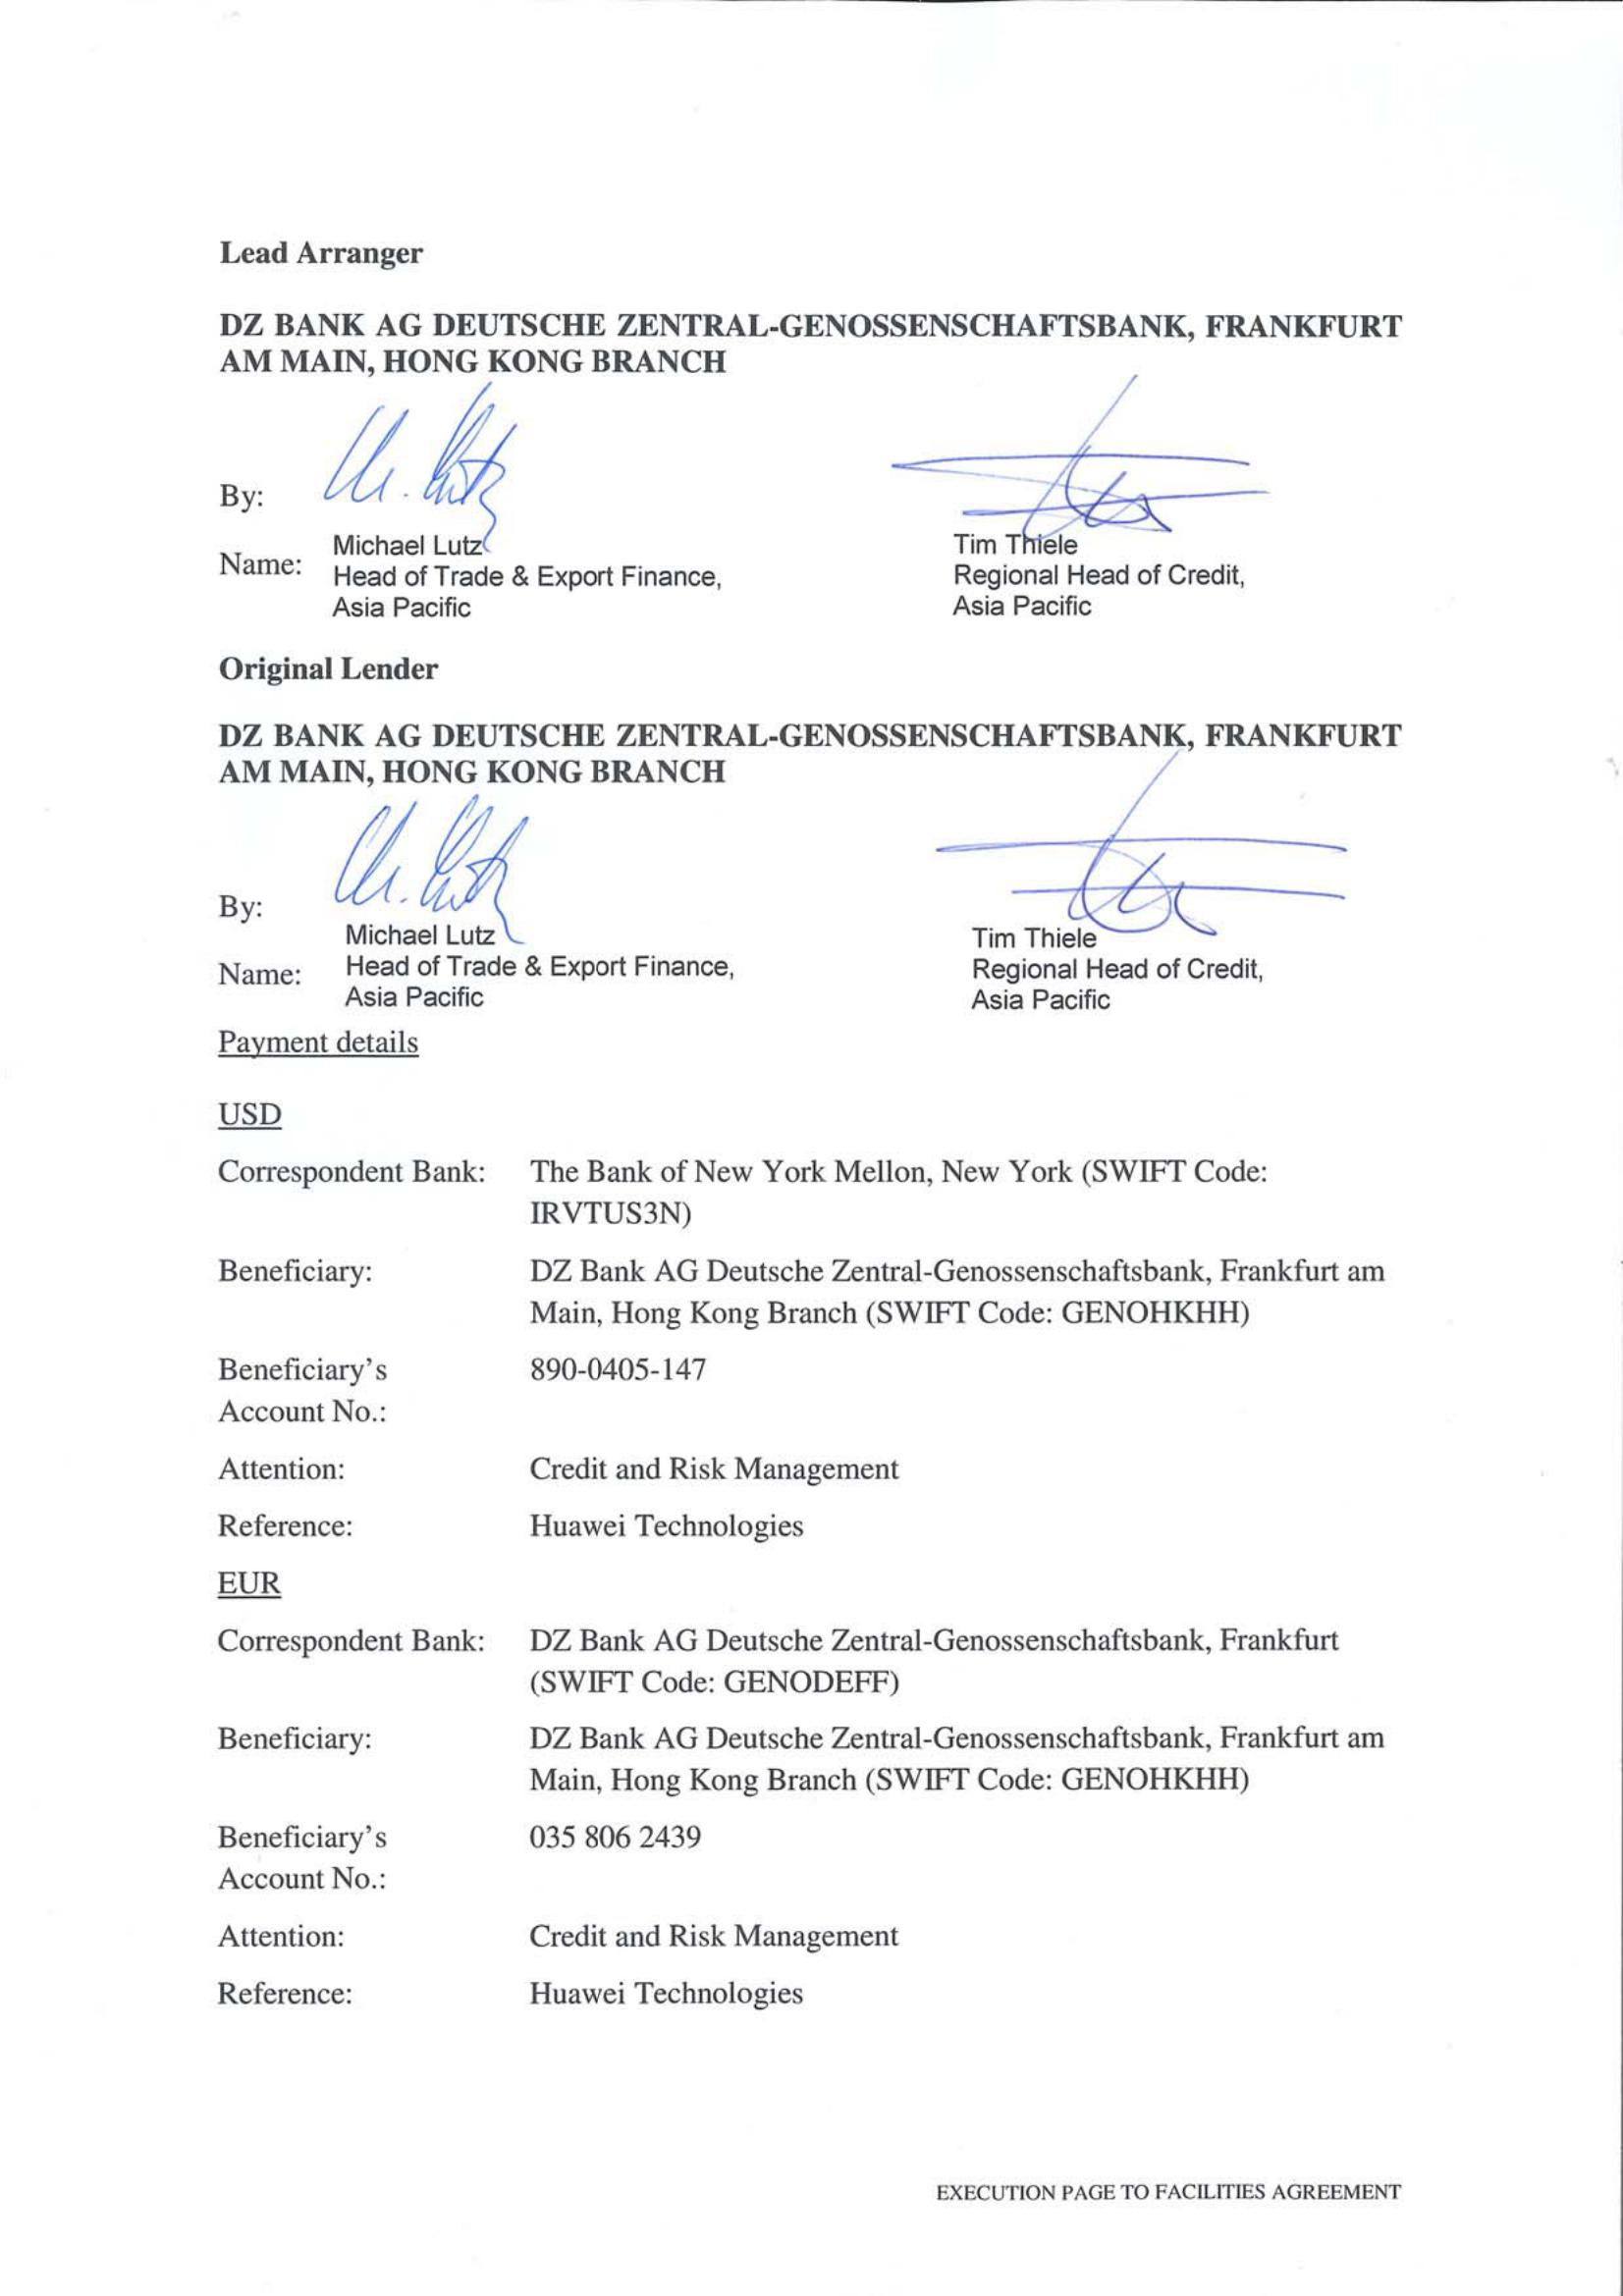typetag: (861, 2135, 1461, 2259)
